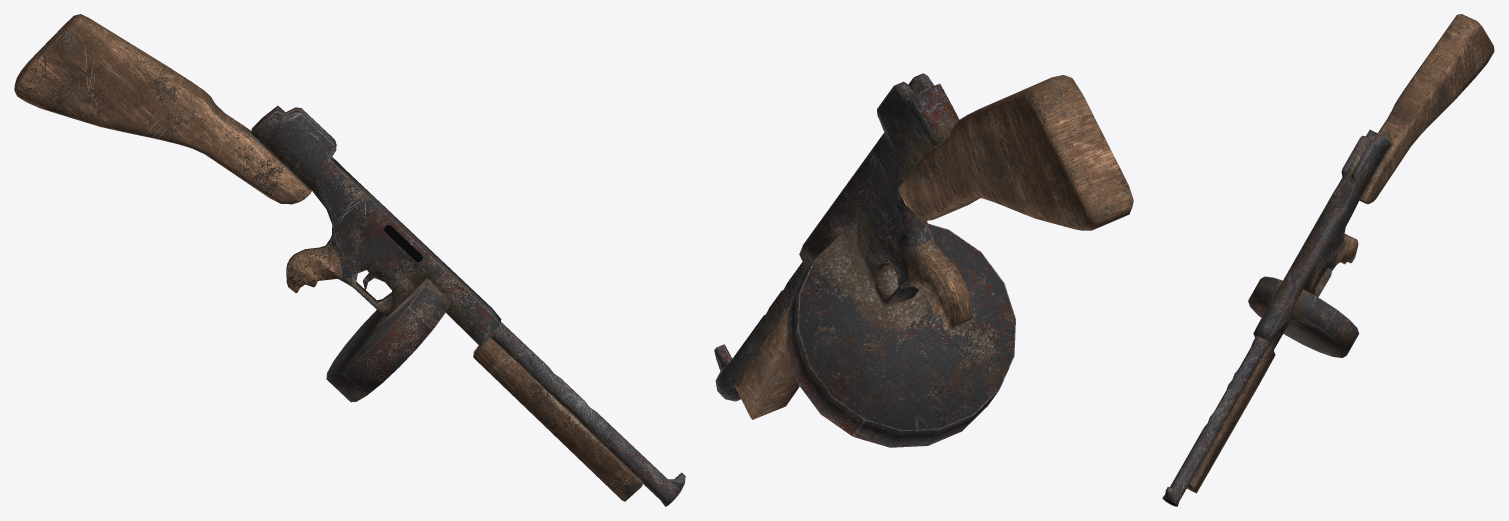
The model's file is Anim_disparar_ametralladora_objetos.0015.obj.
3 renders of one model, left to right at view 1: azimuth 30°, elevation 25°; view 2: azimuth 150°, elevation 25°; view 3: azimuth 270°, elevation 25°, orthographic. The views are drawn at different scales.
Visible parts, largest first — view 1: Ametralladora1; view 2: Ametralladora1; view 3: Ametralladora1.
Boxes of the visible parts, x1,y1,x2,y2 form: Ametralladora1: (14,14,685,506); Ametralladora1: (714,73,1133,447); Ametralladora1: (1162,14,1494,506).
Size of the model in its own units: 4.23 by 3.83 by 3.37.
